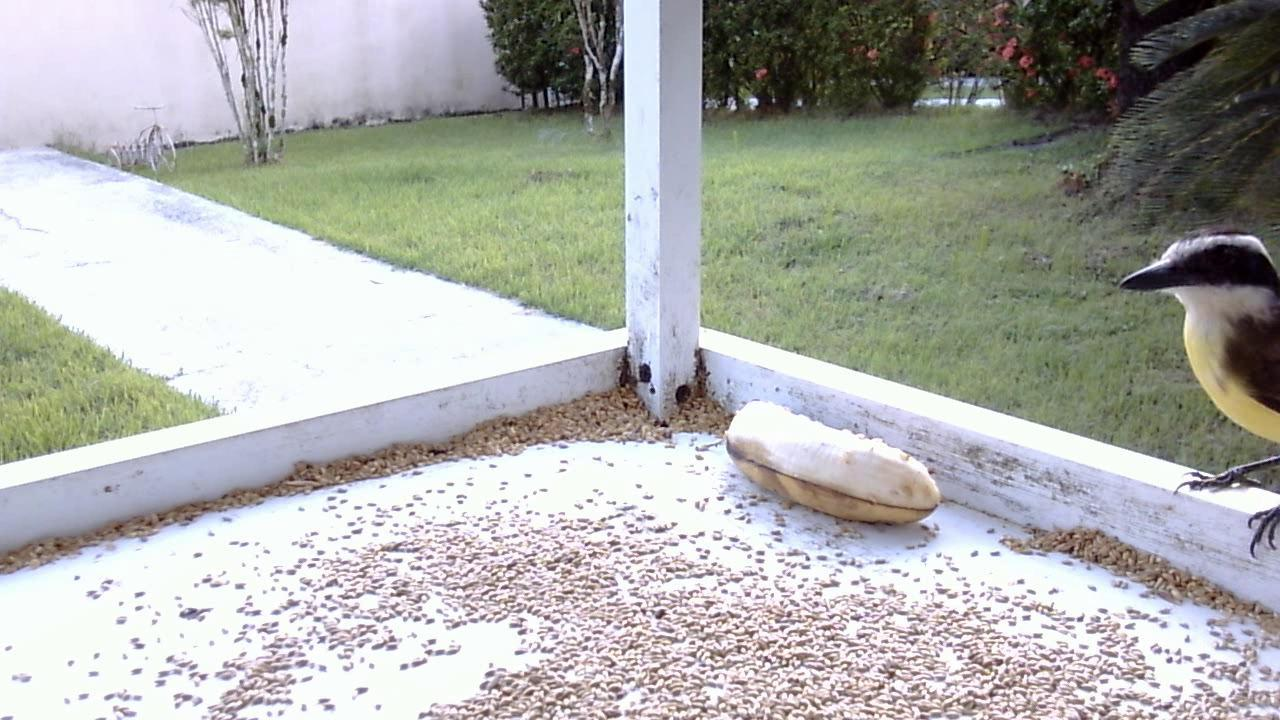bem_te_vi: (1112, 206, 1280, 570)
